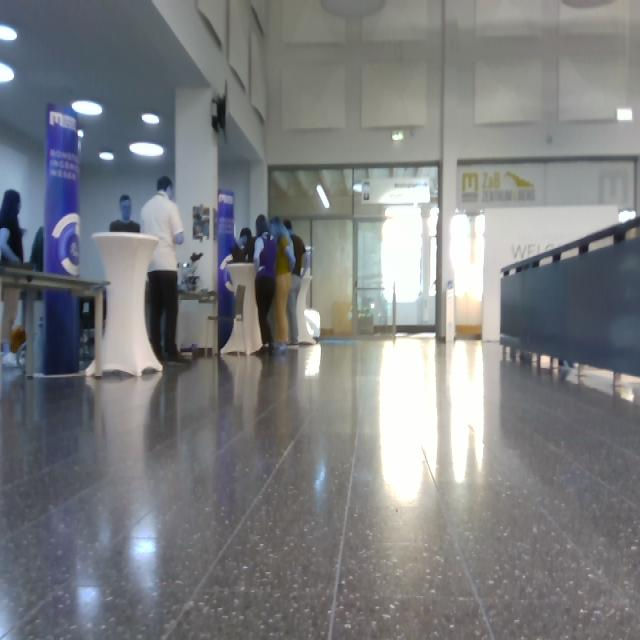door: (311, 217, 354, 337)
light bulb: (72, 100, 103, 116), (316, 184, 330, 209), (1, 61, 15, 84), (1, 24, 18, 42), (617, 108, 633, 122), (142, 113, 160, 125), (392, 130, 404, 141)
person: (140, 176, 193, 364), (269, 216, 296, 352), (253, 215, 278, 355), (283, 220, 308, 345), (109, 194, 141, 233)
pillar: (42, 103, 82, 375)
staircase: (499, 214, 639, 389)
tiled floor: (2, 332, 639, 638)
